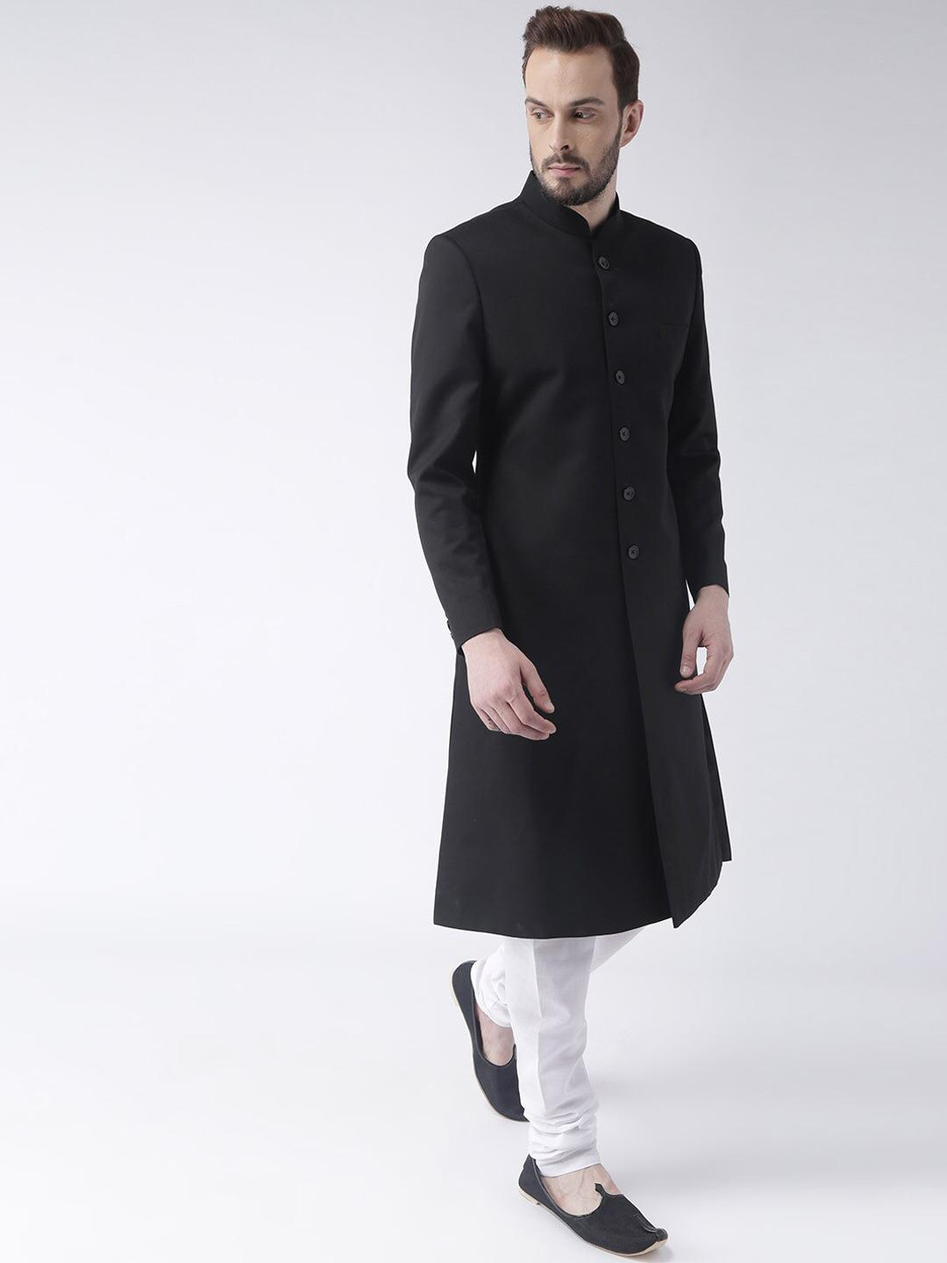Plain Sherwani: (405, 165, 744, 946)
